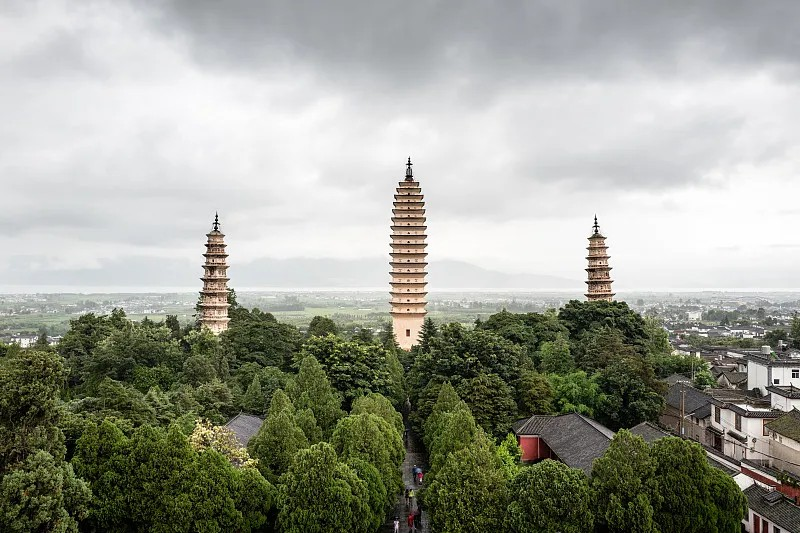ThreePagoda: (388, 156, 428, 350)
